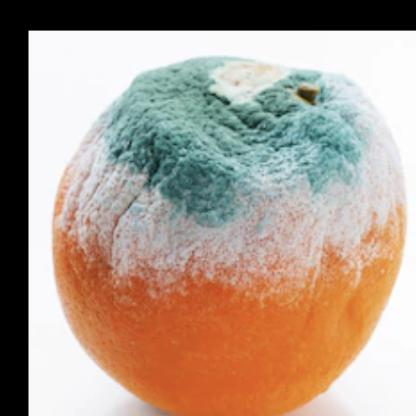rotten: (58, 53, 408, 416)
